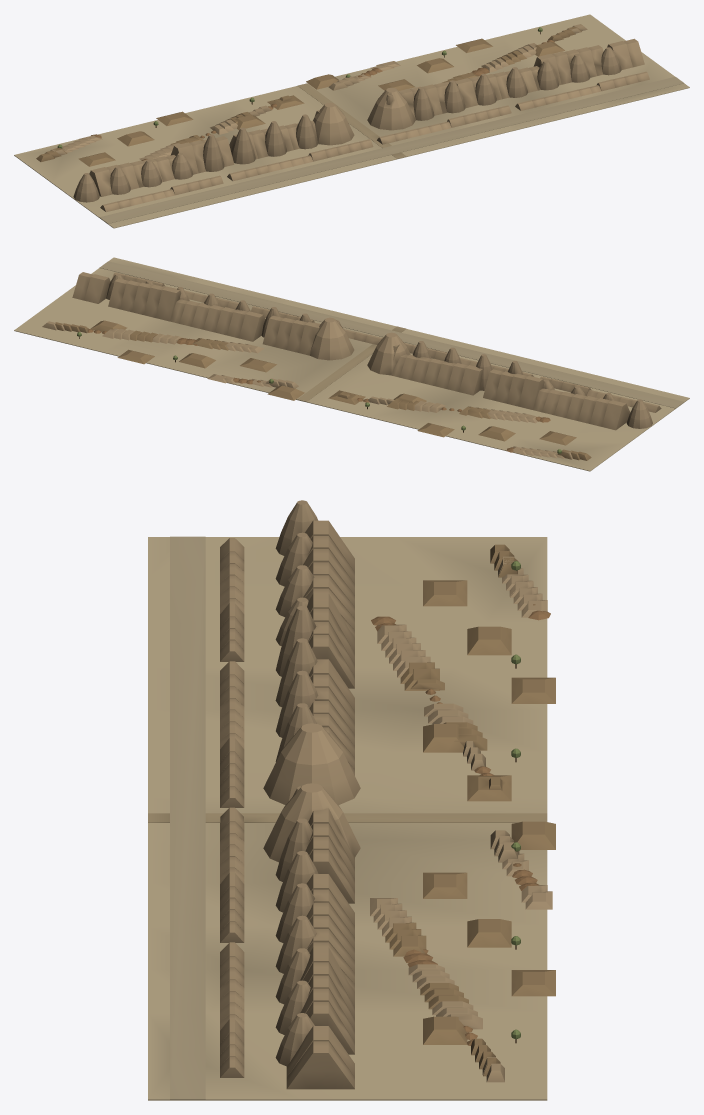
Rendered from sultan-kala-walls-ruin.glb.
3 renders of one model, top to bottom at view 1: azimuth 30°, elevation 25°; view 2: azimuth 150°, elevation 25°; view 3: azimuth 270°, elevation 25°, orthographic. The views are drawn at different scales.
Parts seen in each view (by area): view 1: p0_ground, p1_ruins; view 2: p0_ground, p1_ruins; view 3: p0_ground, p1_ruins.
Boxes of the visible parts, box(x1,y1,x2,y2) form: p0_ground: box(14, 14, 689, 228); p1_ruins: box(36, 24, 649, 212); p0_ground: box(14, 257, 689, 471); p1_ruins: box(42, 272, 661, 460); p0_ground: box(148, 536, 547, 1100); p1_ruins: box(148, 500, 555, 1089).
Size of the model in its own units: 300 by 15.73 by 92.
